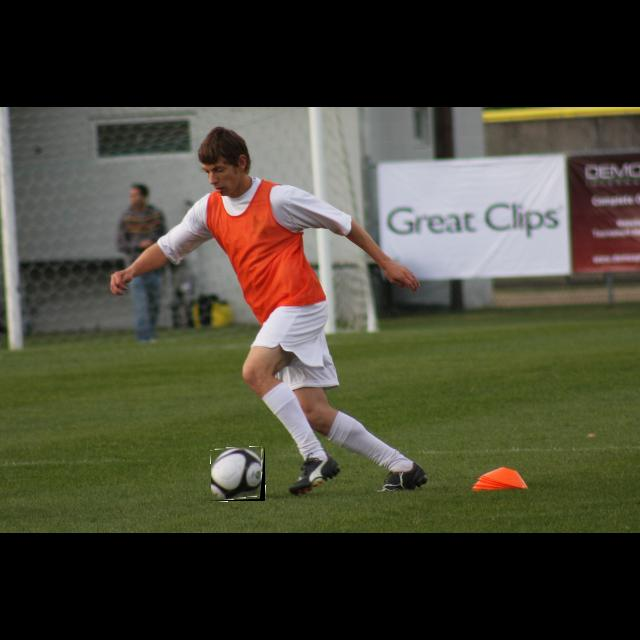Football: (211, 447, 265, 501)
